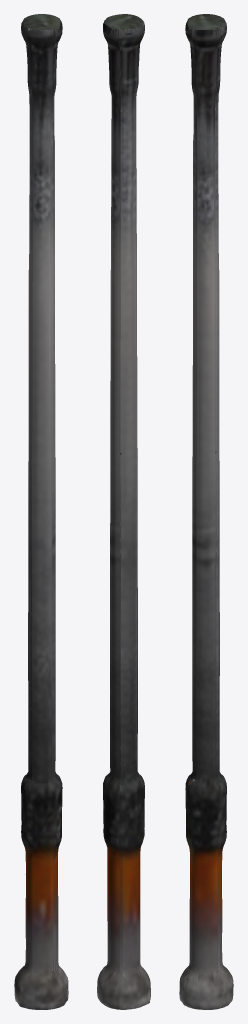
The model's file is rod.fbx.
The picture shows the model from 3 angles, left to right: view 1: azimuth 90°, elevation 25°; view 2: azimuth 210°, elevation 25°; view 3: azimuth 270°, elevation 25°; orthographic projection.
Parts seen in each view (by area): view 1: tmpnd1e5lz1.ply; view 2: tmpnd1e5lz1.ply; view 3: tmpnd1e5lz1.ply.
Boxes of the visible parts, <box> form: tmpnd1e5lz1.ply: <box>14,14,68,1009</box>; tmpnd1e5lz1.ply: <box>97,14,150,1009</box>; tmpnd1e5lz1.ply: <box>179,14,233,1009</box>.
Size of the model in its own units: 4.81 by 98.91 by 4.94.
Materials: 1 (1 with a texture image).
